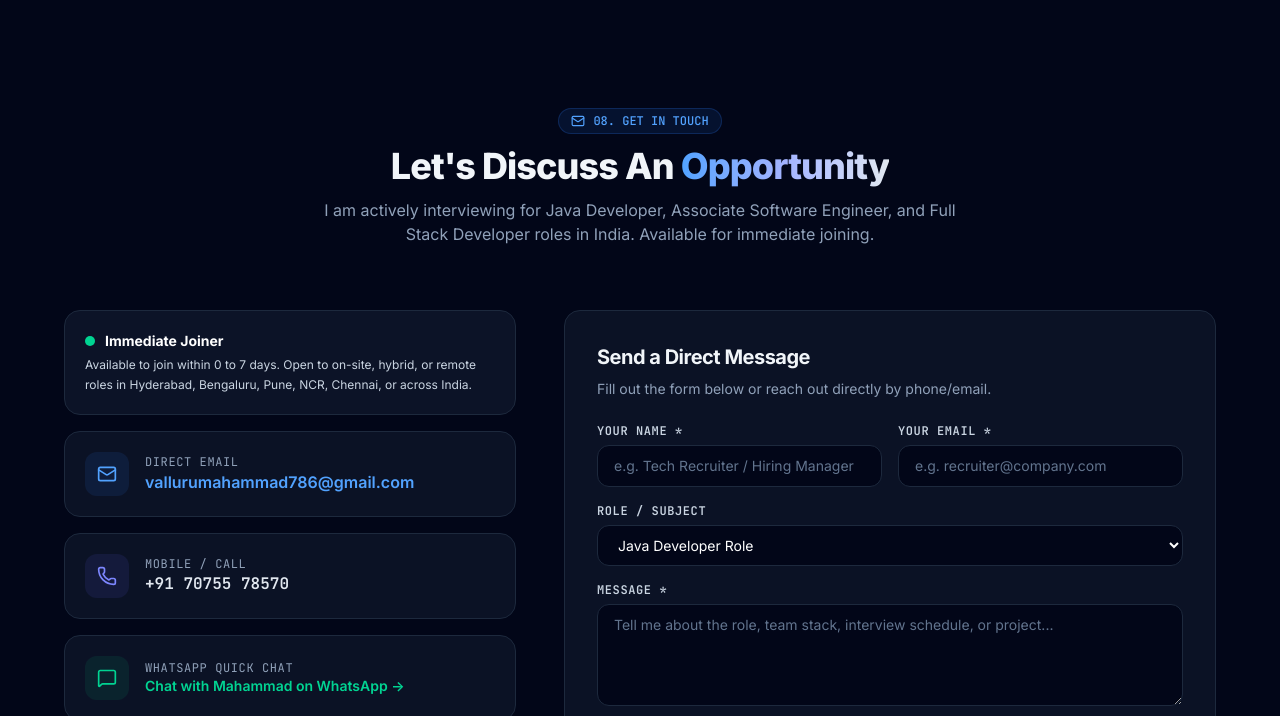
Test: Functional Tests › handles contact form network error gracefully
The width and height of the screenshot is (1280, 716).
Type "Tech Recruiter" into the field labelled "Your Name *" at {"x": 740, "y": 466}, box top-left (597, 445), bottom-right (882, 487)
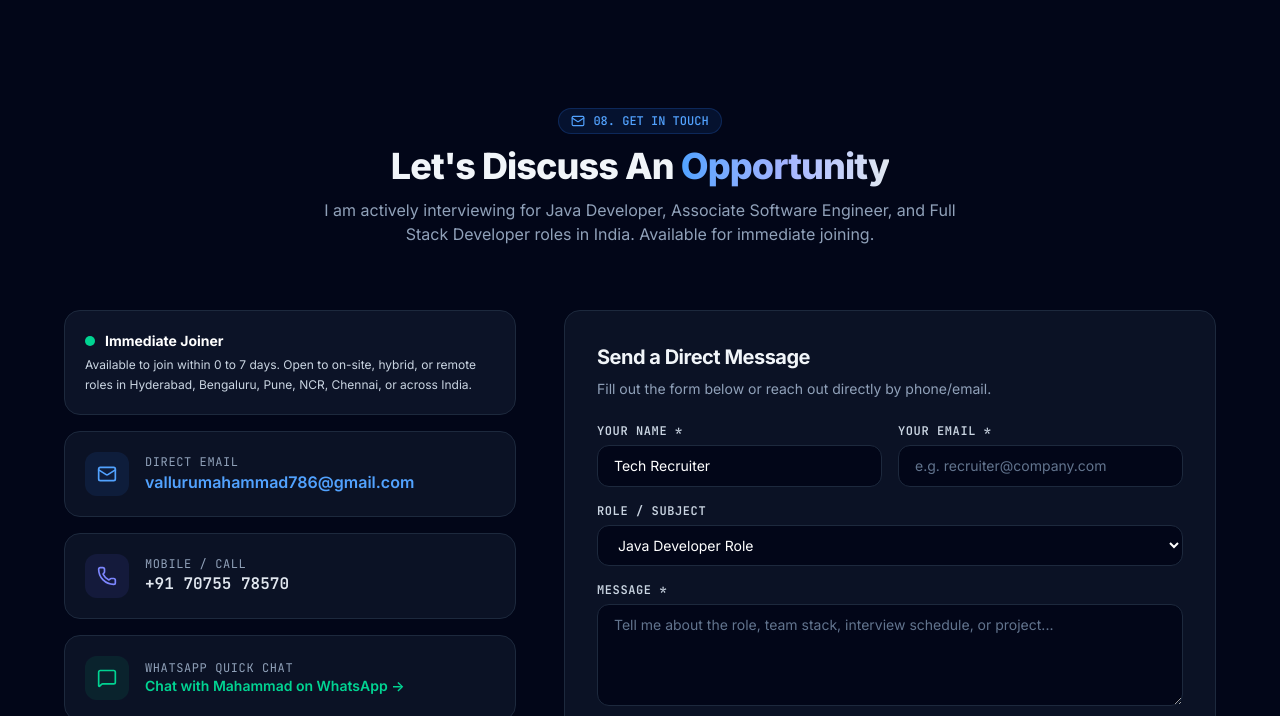
Type "recruiter@company.com" into the field labelled "Your Email *" at {"x": 1040, "y": 466}, box top-left (898, 445), bottom-right (1183, 487)
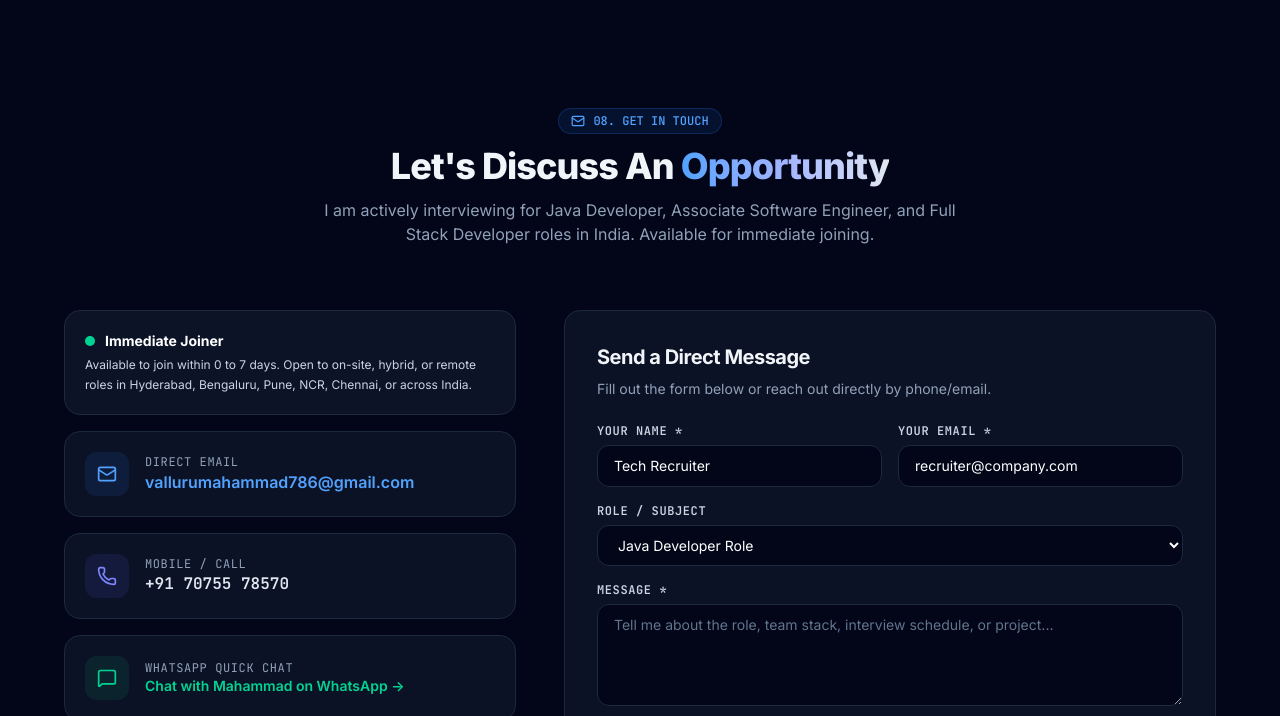
Replace the text in the text box labelled "Message *" with "Interview opportunity." at {"x": 890, "y": 655}, box top-left (597, 604), bottom-right (1183, 706)
(page scrolled)
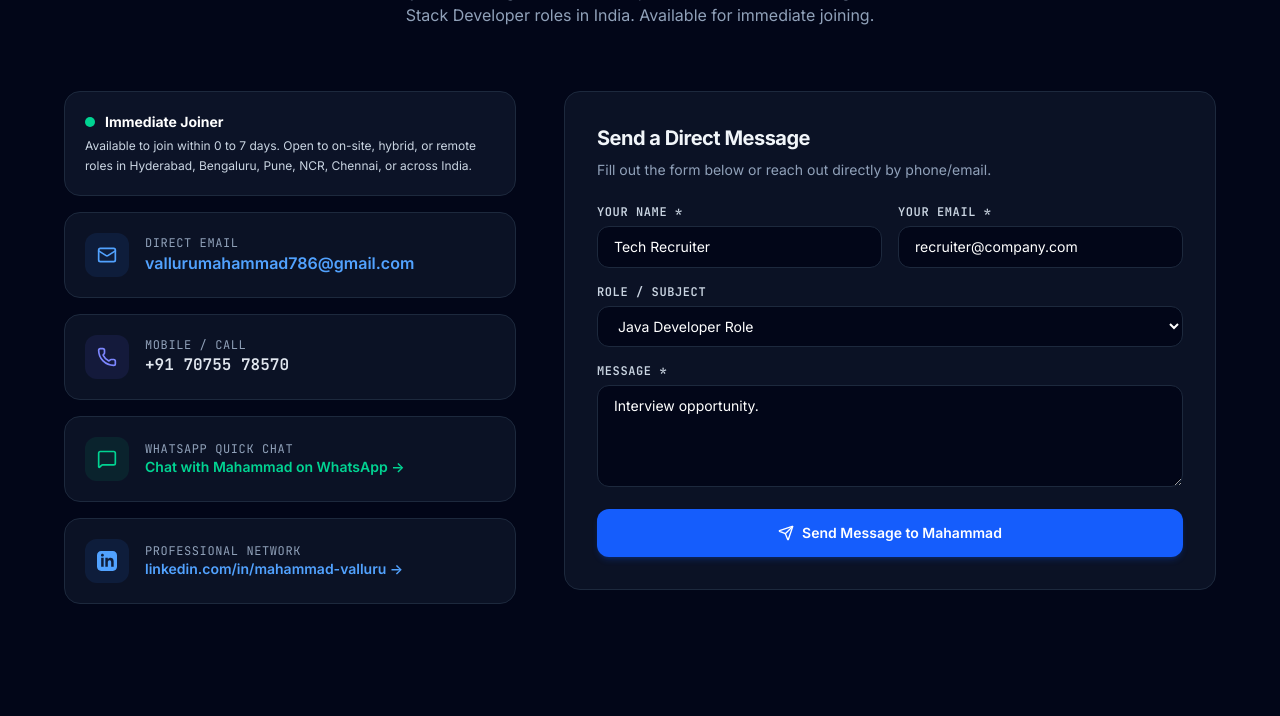
Click the button "Send Message to Mahammad" at {"x": 890, "y": 533}, box top-left (597, 509), bottom-right (1183, 557)
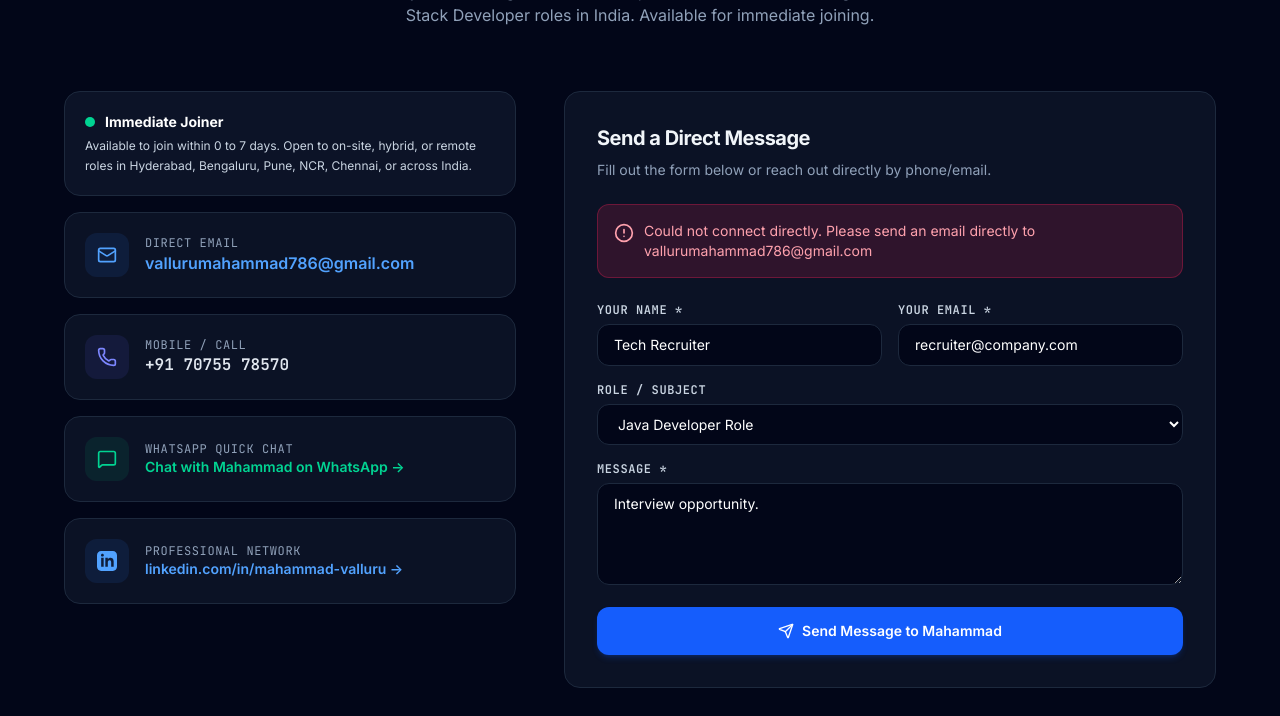
Now the text "Could not connect directly" is shown, box top-left (644, 222), bottom-right (1035, 259)
